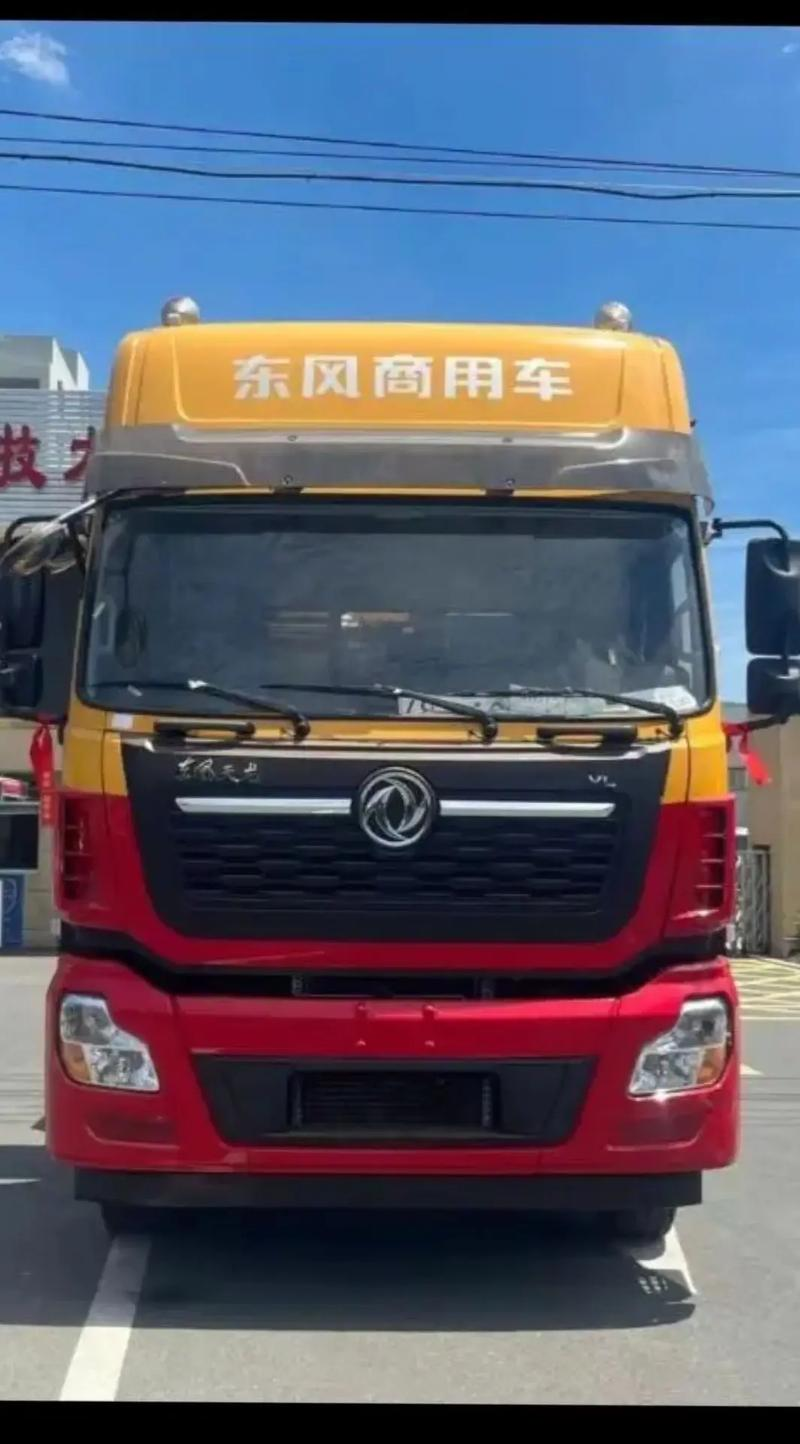卡车: (64, 279, 800, 1280)
